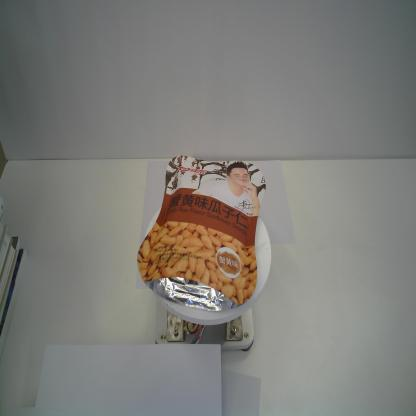Dried Fruit: (136, 154, 267, 313)
